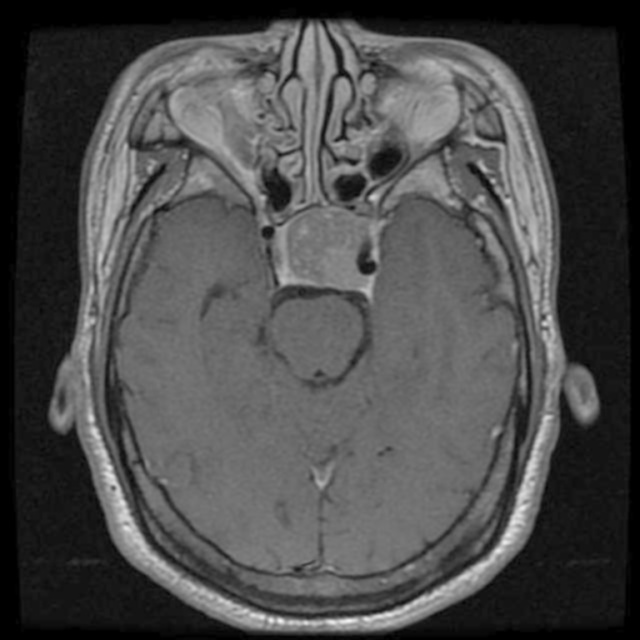no tumor: (285, 208, 383, 294)
